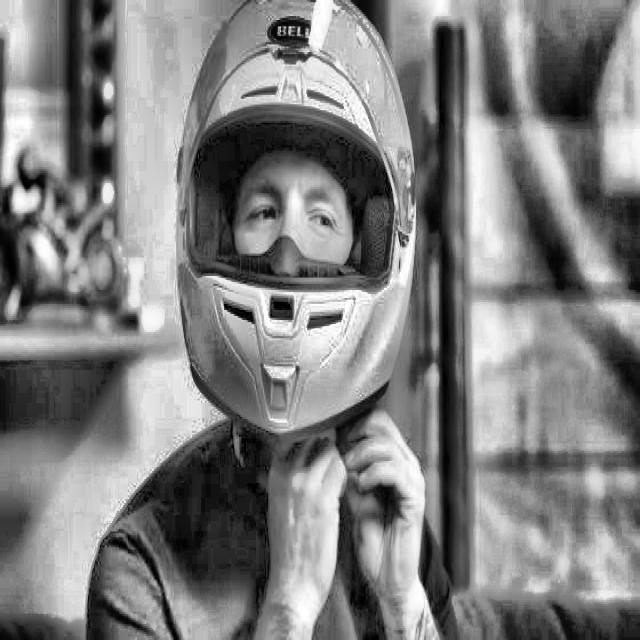Helmet: (158, 0, 425, 600)
